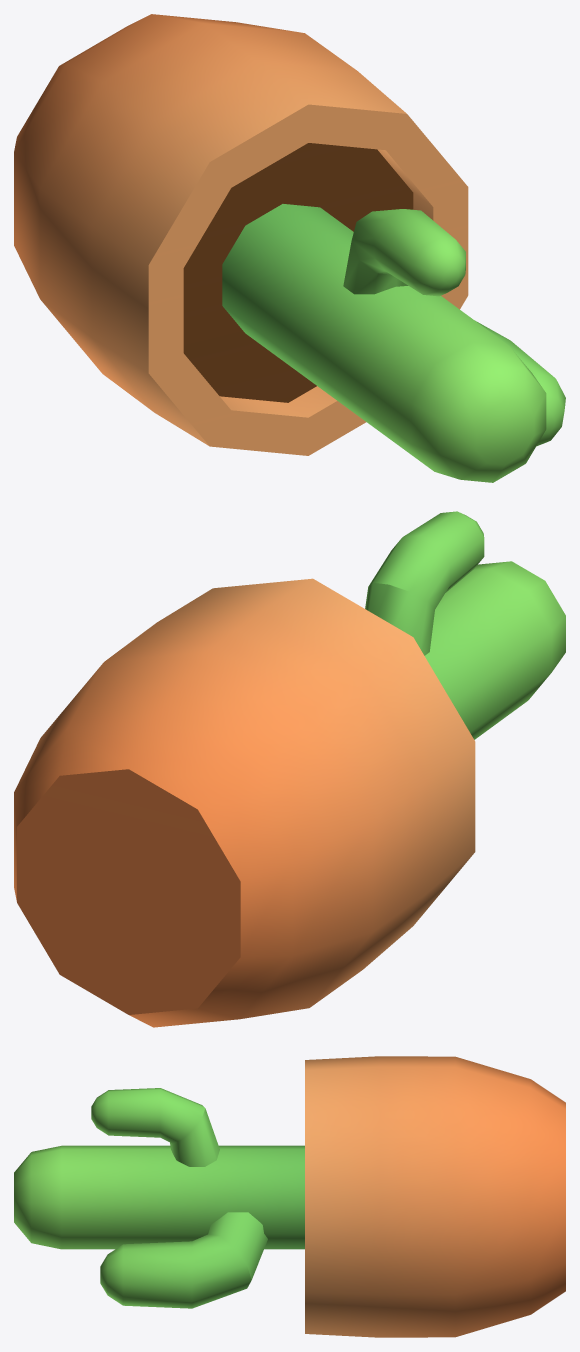
Rendered from Cactus.fbx.
3 renders of one model, top to bottom at view 1: azimuth 30°, elevation 25°; view 2: azimuth 150°, elevation 25°; view 3: azimuth 270°, elevation 25°, orthographic. The views are drawn at different scales.
Parts seen in each view (by area): view 1: Cactus; view 2: Cactus; view 3: Cactus.
Part boxes in pixels (x1=…): Cactus: x1=14, y1=14, x2=565, y2=482; Cactus: x1=14, y1=511, x2=565, y2=1027; Cactus: x1=14, y1=1056, x2=565, y2=1337.
Bounding box in the file's own units: 17.95 × 18.88 × 36.33.
